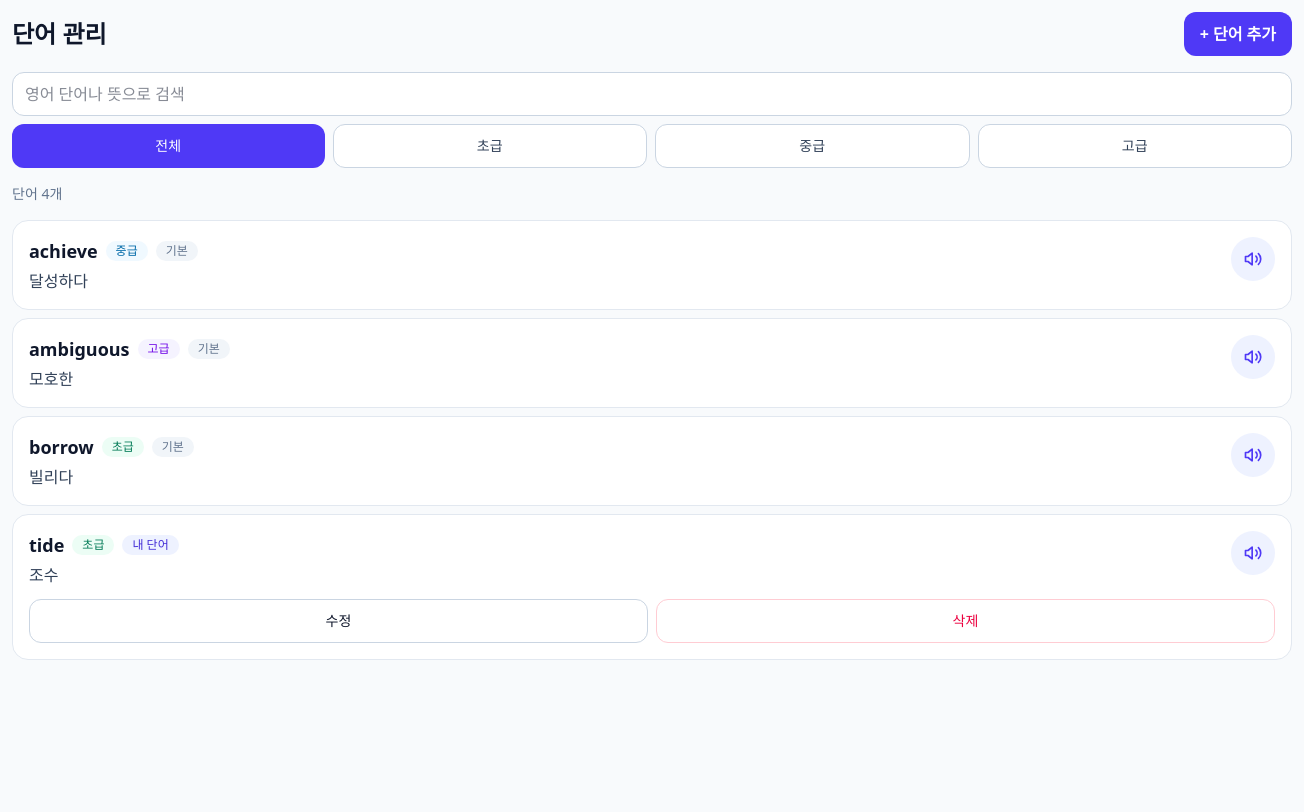
it: WordManager: 추가·수정·삭제 › 삭제는 확인을 거치고, 학습 기록도 함께 지운다
Expected: the list named "단어 목록" is shown, [12, 220, 1292, 660]
Click the button with aria-label "tide 삭제".
click(966, 621)  # box [656, 599, 1275, 643]
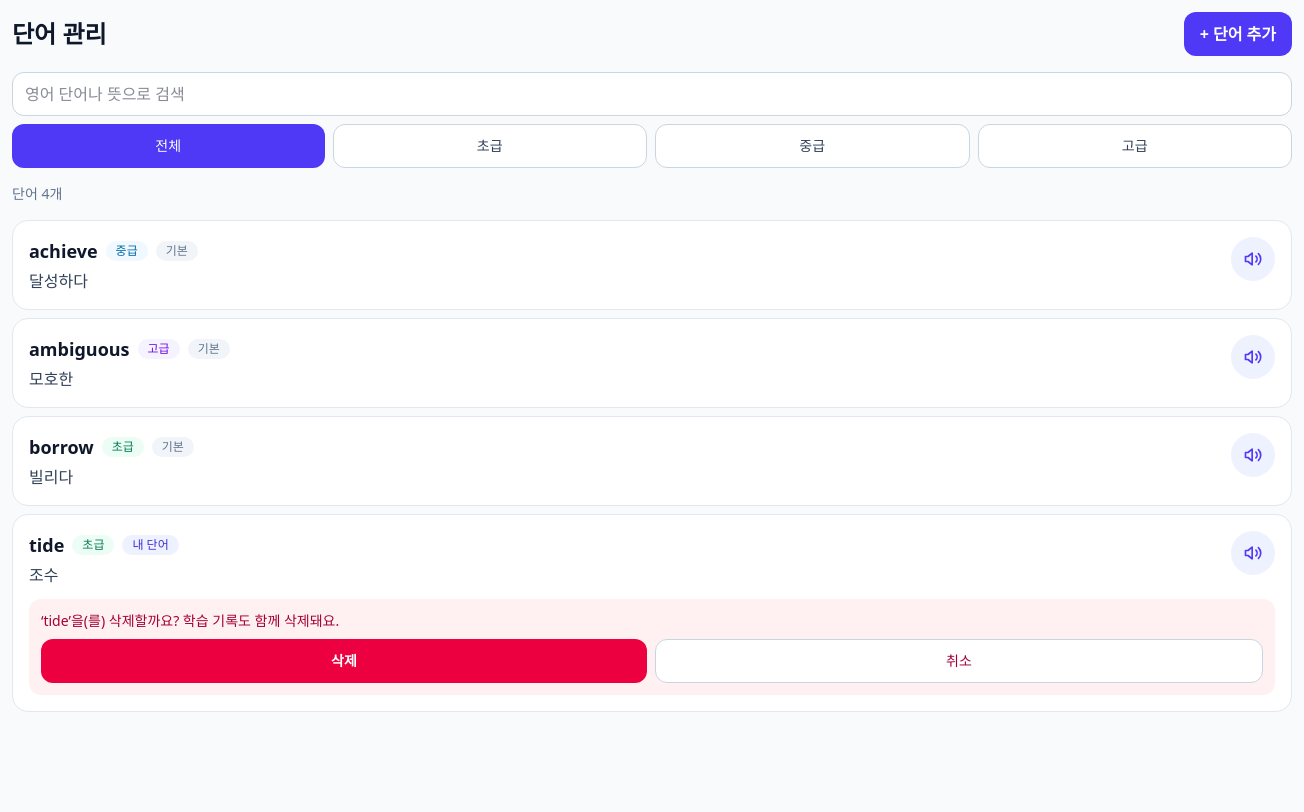
Expected: the text "‘tide’을(를) 삭제할까요? 학습 기록도 함께 삭제돼요." is shown, [41, 611, 339, 630]
Click the button "취소".
click(959, 661)  # box [655, 639, 1263, 683]
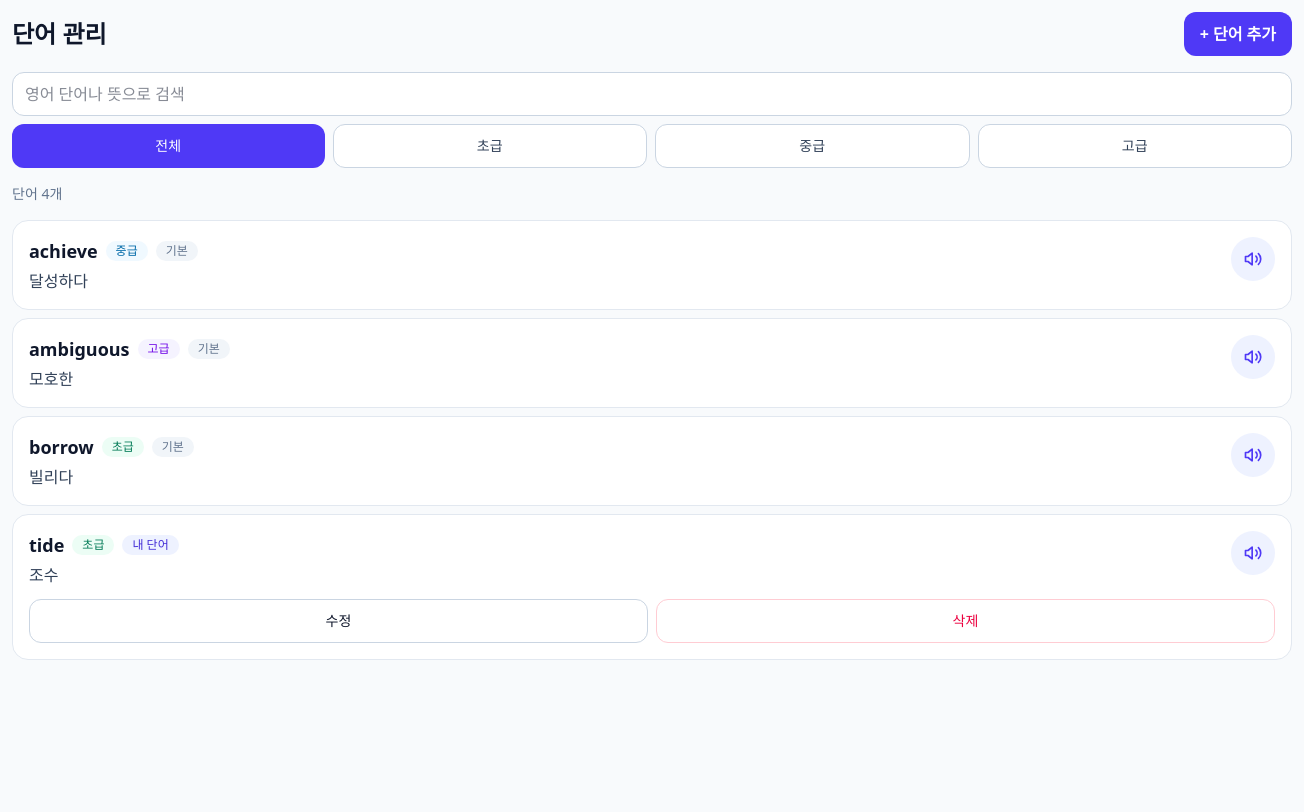
Click the button with aria-label "tide 삭제".
click(966, 621)  # box [656, 599, 1275, 643]
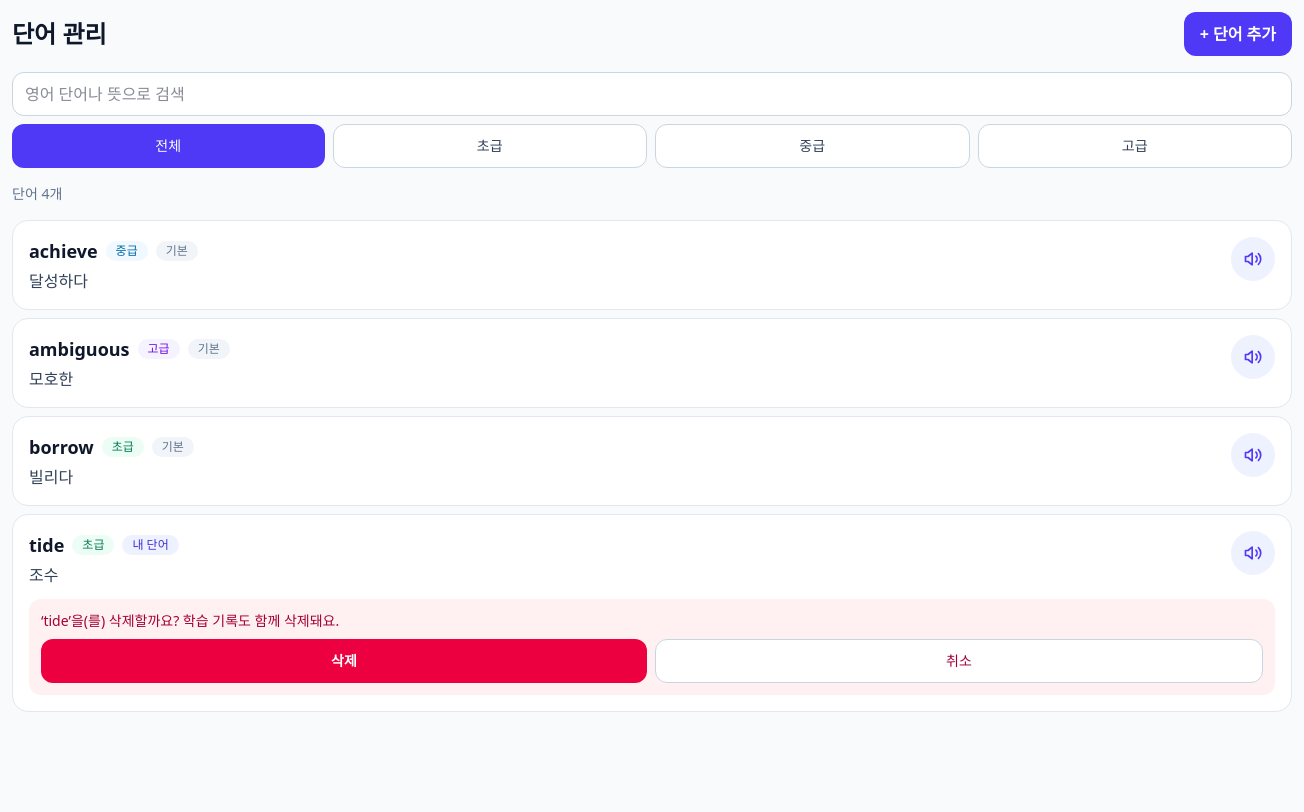
Click the button "삭제".
click(344, 661)  # box [41, 639, 647, 683]
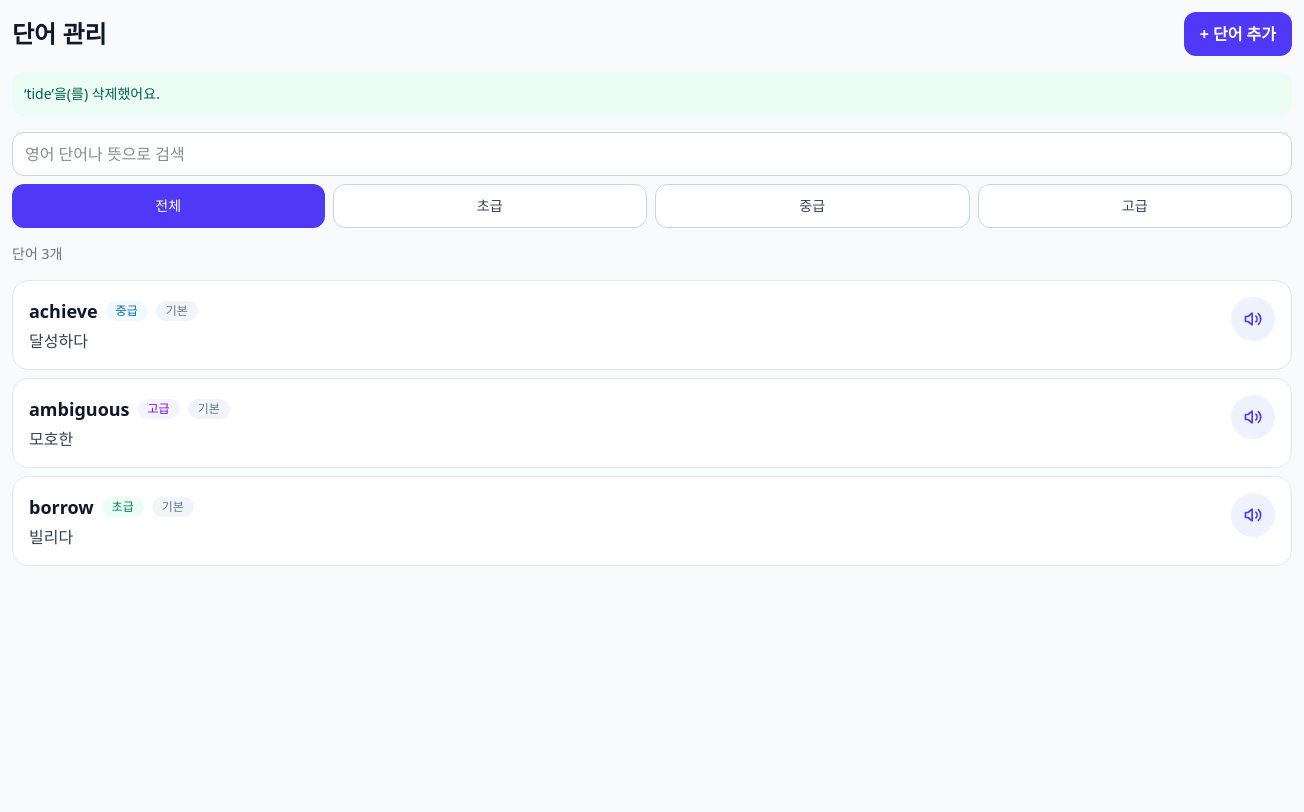
Expected: the text "‘tide’을(를) 삭제했어요." is shown, [12, 72, 1292, 116]
Expected: the button no longer shows "tide"
